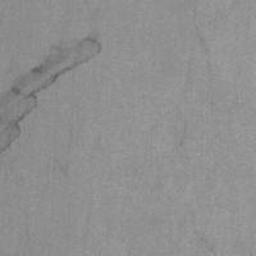Water spot: (0, 28, 101, 152)
